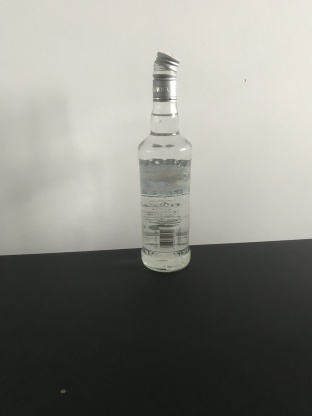nakretka: (151, 50, 181, 103)
